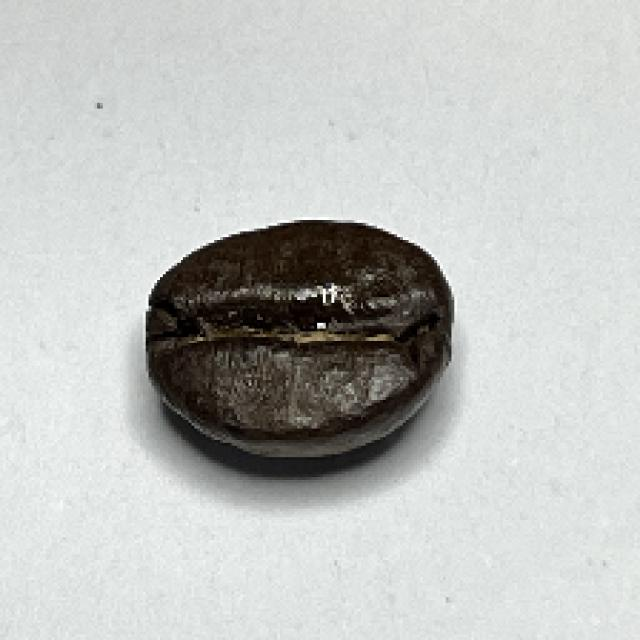bean: (141, 217, 457, 456)
